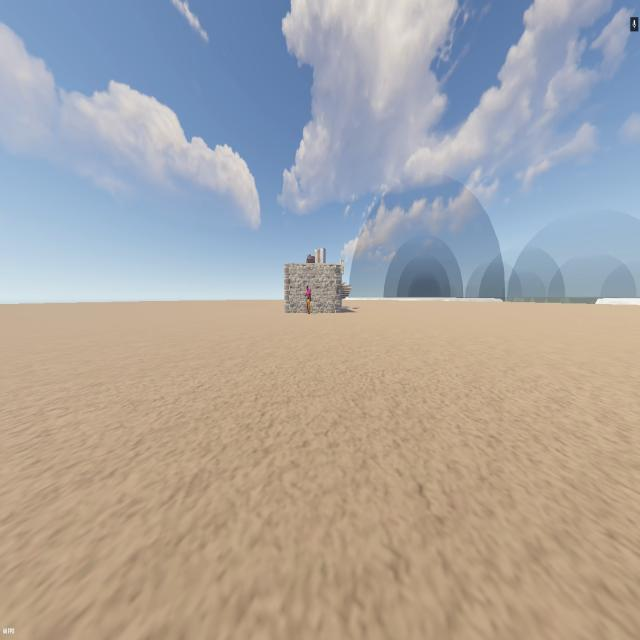Player: (305, 284, 312, 315)
